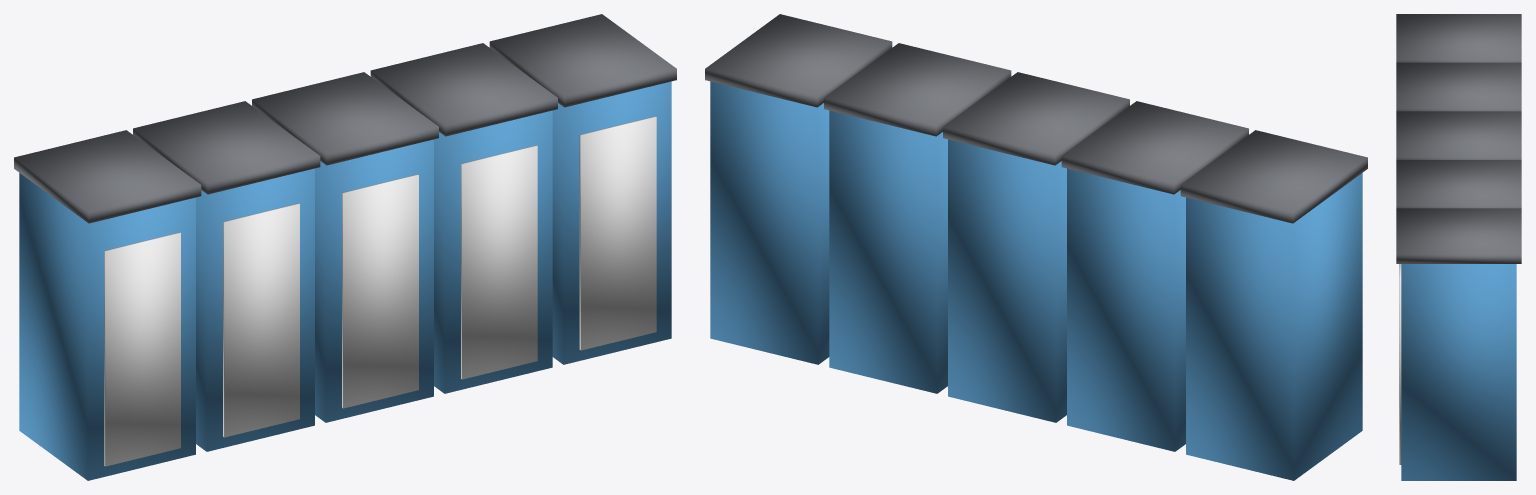
Rendered from portaloo_row.glb.
3 views of the same model, side by side, from view 1: azimuth 30°, elevation 25°; view 2: azimuth 150°, elevation 25°; view 3: azimuth 270°, elevation 25° (orthographic). The views are drawn at different scales.
Parts seen in each view (by area): view 1: portaloo_row; view 2: portaloo_row; view 3: portaloo_row.
Boxes of the visible parts, left/top/right/bottom form: portaloo_row: left=14, top=14, right=676, bottom=480; portaloo_row: left=705, top=14, right=1367, bottom=480; portaloo_row: left=1396, top=14, right=1521, bottom=480.
Bounding box in the file's own units: 5.44 × 2.4 × 1.2.
